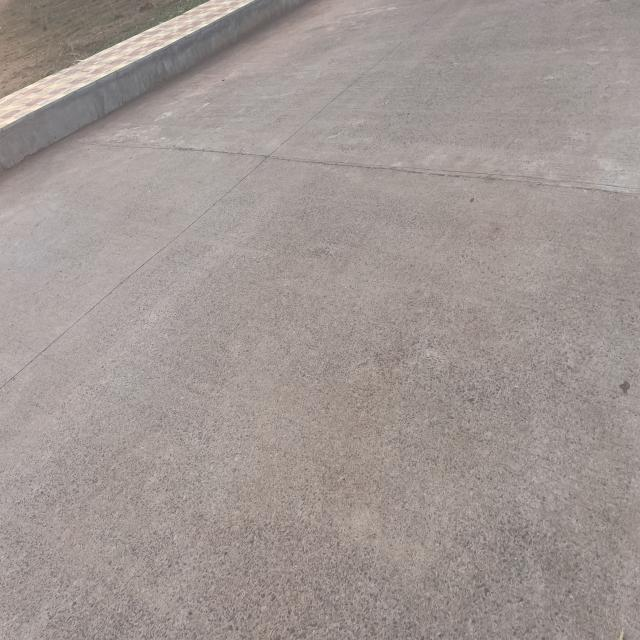D43: (125, 106, 612, 249)
